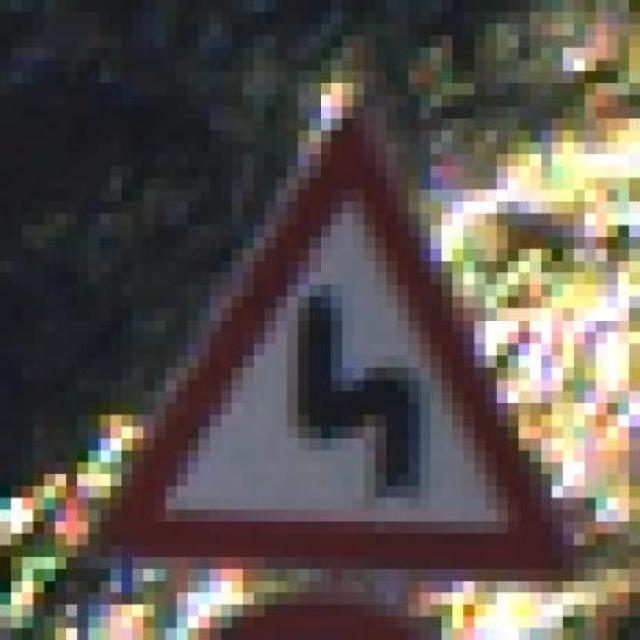Left Zig Zag Traffic: (78, 82, 596, 593)
